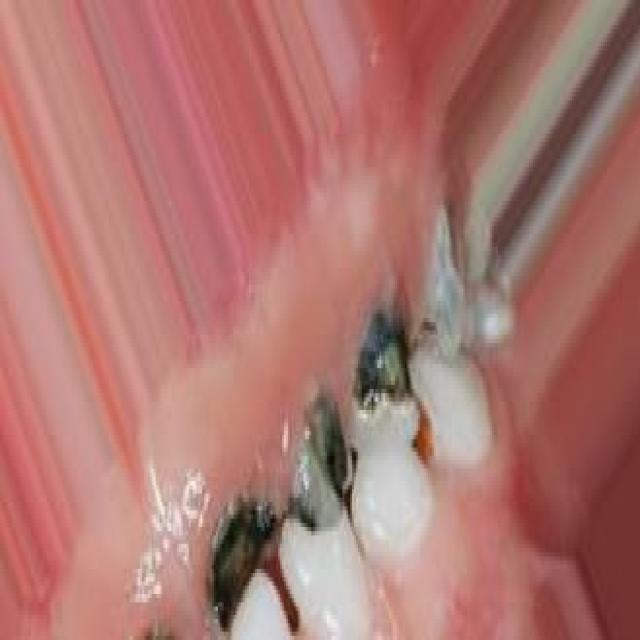caries: (199, 477, 282, 632), (344, 297, 422, 449), (287, 372, 356, 542), (421, 205, 474, 372)
